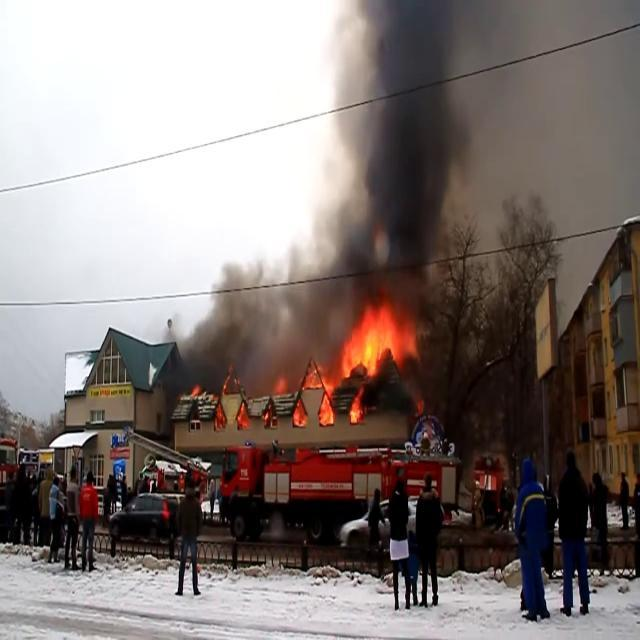Fire: (340, 301, 414, 380), (318, 380, 338, 428)
Smoke: (303, 1, 483, 300), (463, 0, 640, 276), (164, 246, 338, 388)
